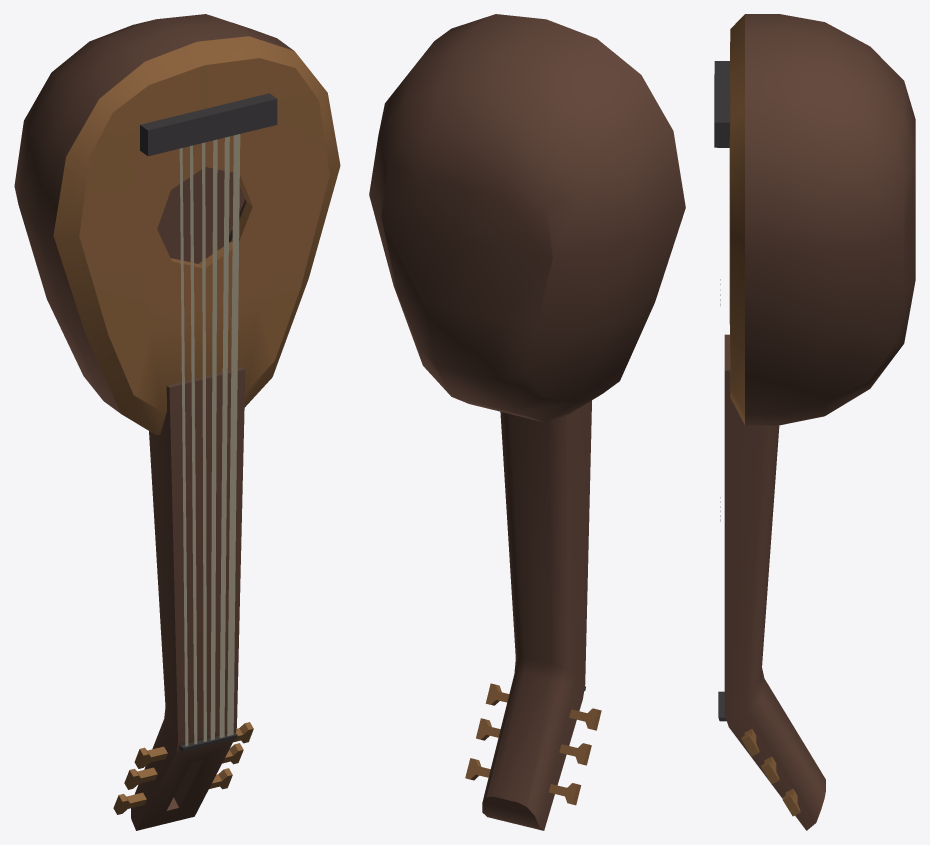
File: quaternius-pirate-weapon-lute.glb
3 renders of one model, left to right at view 1: azimuth 30°, elevation 25°; view 2: azimuth 150°, elevation 25°; view 3: azimuth 270°, elevation 25°, orthographic. The views are drawn at different scales.
Visible parts, largest first — view 1: Weapon_Lute; view 2: Weapon_Lute; view 3: Weapon_Lute.
Part boxes in pixels (x1,y1,x2,y2): Weapon_Lute: (14, 14, 340, 830); Weapon_Lute: (369, 14, 685, 830); Weapon_Lute: (714, 14, 915, 830).
Size of the model in its own units: 0.4987 by 1.33 by 0.3096.
1 material, 1 textured.
